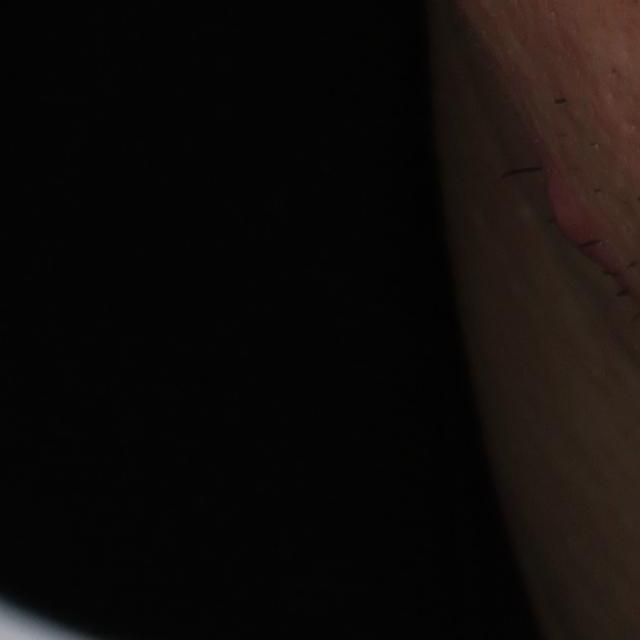papule: (545, 164, 596, 257)
